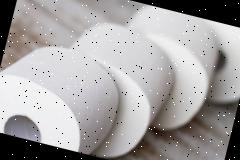paper: (0, 32, 128, 157), (55, 13, 184, 132), (44, 47, 161, 160), (113, 1, 226, 101), (123, 32, 217, 139), (184, 18, 240, 108)
